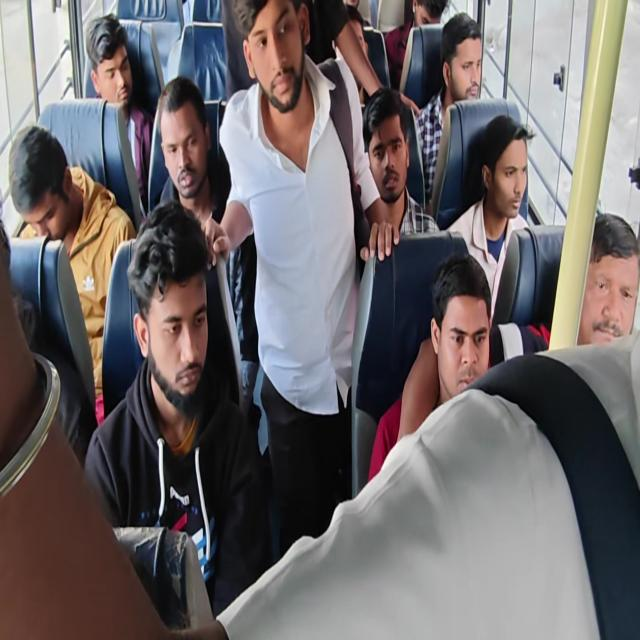person: (134, 194, 214, 394), (428, 256, 494, 419), (232, 0, 318, 121), (6, 109, 80, 234), (157, 76, 216, 203), (583, 199, 631, 352), (359, 88, 416, 202), (80, 13, 142, 112), (477, 108, 528, 226), (437, 15, 486, 96), (332, 7, 378, 84), (413, 0, 447, 31)
